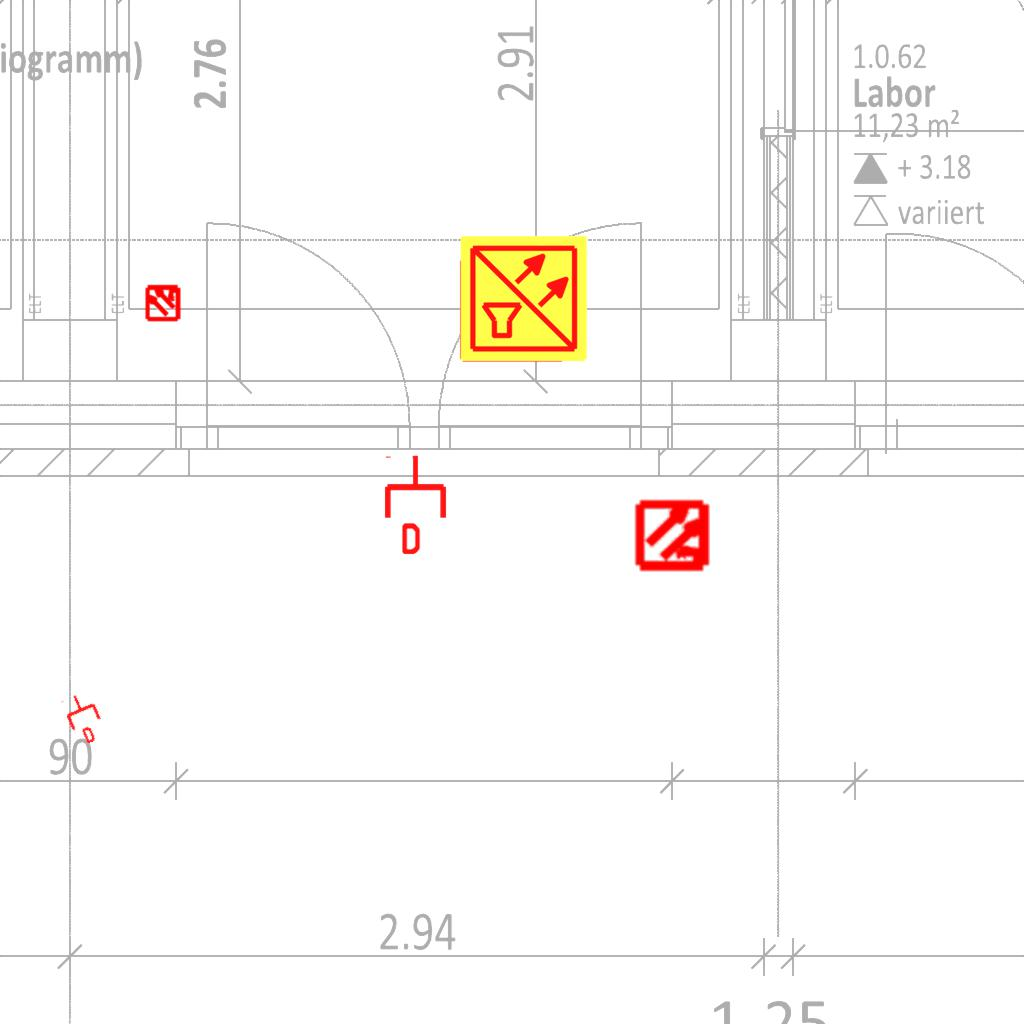Datenanschluss_einfach: (381, 454, 450, 554), (58, 688, 110, 748)
OKW_Multisensormelder_(Kombination_optischer_Rauch-Kahlenmonoxid_Waerme-Melder): (458, 233, 590, 365)
OT_Multisensormelder_(Kombination_RMO_WMD): (618, 479, 731, 592), (135, 274, 191, 330)
